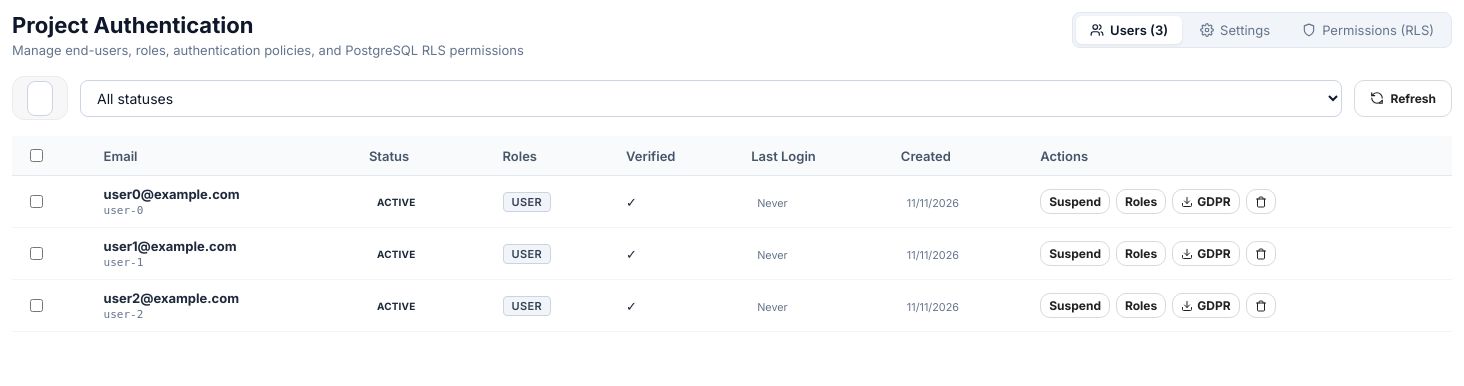
it: Project Authentication bulk actions › previews deletion and never deletes without the typed confirmation
Later steps or results of the test are not shown.
Click the checkbox named "Select displayed users" at (36,156), box [30,149,43,162]
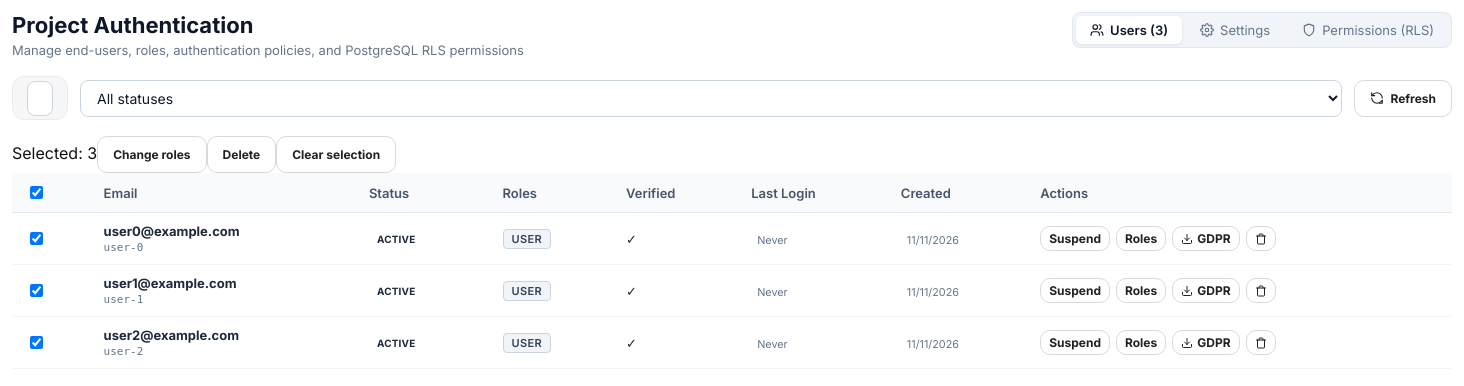
Expected: the button "Delete" is shown
Click the button "Delete" at (241,154), box [207,136,276,173]
Expected: the message "Selected: 3" is shown, [12,143,97,163]
Expected: the button "Delete" is shown, [207,136,276,173]
